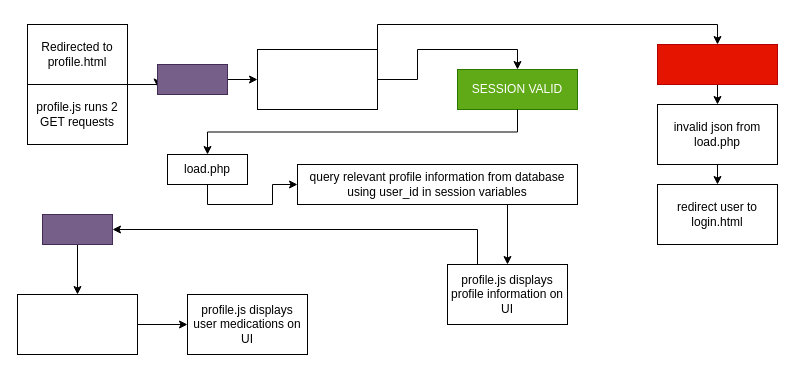
Image size: 795x372. Some labels were removed from this diagram. The centre of each missing label's shape, as x and y in pixels:
1. GET (profile): the point at 192,79
2. GET (user meds): the point at 77,229
med/get.php query user specific medications: the point at 77,324
profile/load.php validate user session: the point at 317,79
SESSION INVALID / GET FAIL: the point at 717,64
